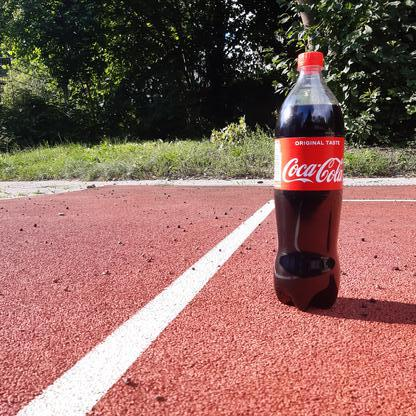coca-cola: (272, 50, 348, 313)
